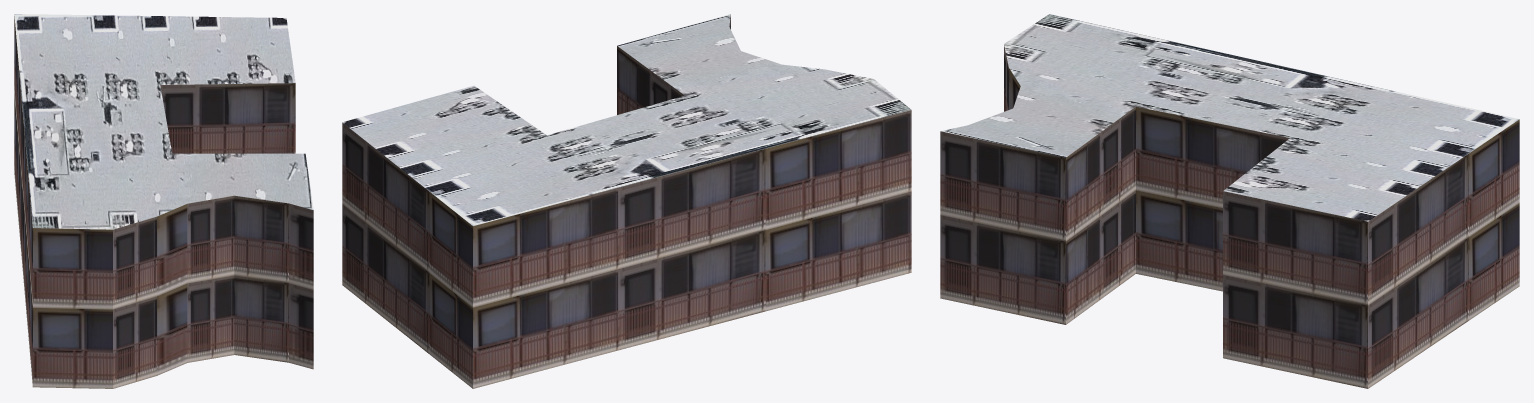
Rendered from ResTex__492.fbx.
3 views of the same model, side by side, from view 1: azimuth 30°, elevation 25°; view 2: azimuth 150°, elevation 25°; view 3: azimuth 270°, elevation 25° (orthographic). The views are drawn at different scales.
Parts seen in each view (by area): view 1: CityEngineMaterial_6_m, CityEngineMaterial_4_m; view 2: CityEngineMaterial_6_m, CityEngineMaterial_4_m; view 3: CityEngineMaterial_6_m, CityEngineMaterial_4_m.
Boxes of the visible parts, box(x1,y1,x2,y2) form: CityEngineMaterial_6_m: box(14, 16, 313, 388); CityEngineMaterial_4_m: box(14, 14, 313, 229); CityEngineMaterial_6_m: box(342, 14, 911, 388); CityEngineMaterial_4_m: box(343, 14, 911, 225); CityEngineMaterial_6_m: box(940, 45, 1519, 388); CityEngineMaterial_4_m: box(941, 14, 1518, 221).
Bounding box in the file's own units: 15.98 × 6 × 18.82.
Materials: 2 (2 with a texture image).
